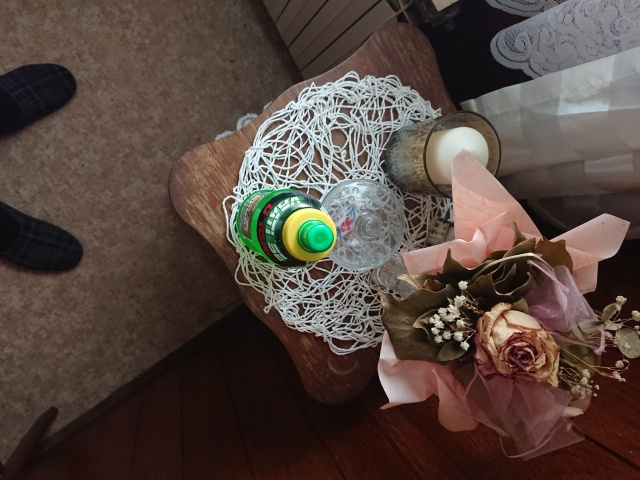Vindi Iso Sport Lemon-Grapefruit 500mL: (233, 186, 341, 271)
